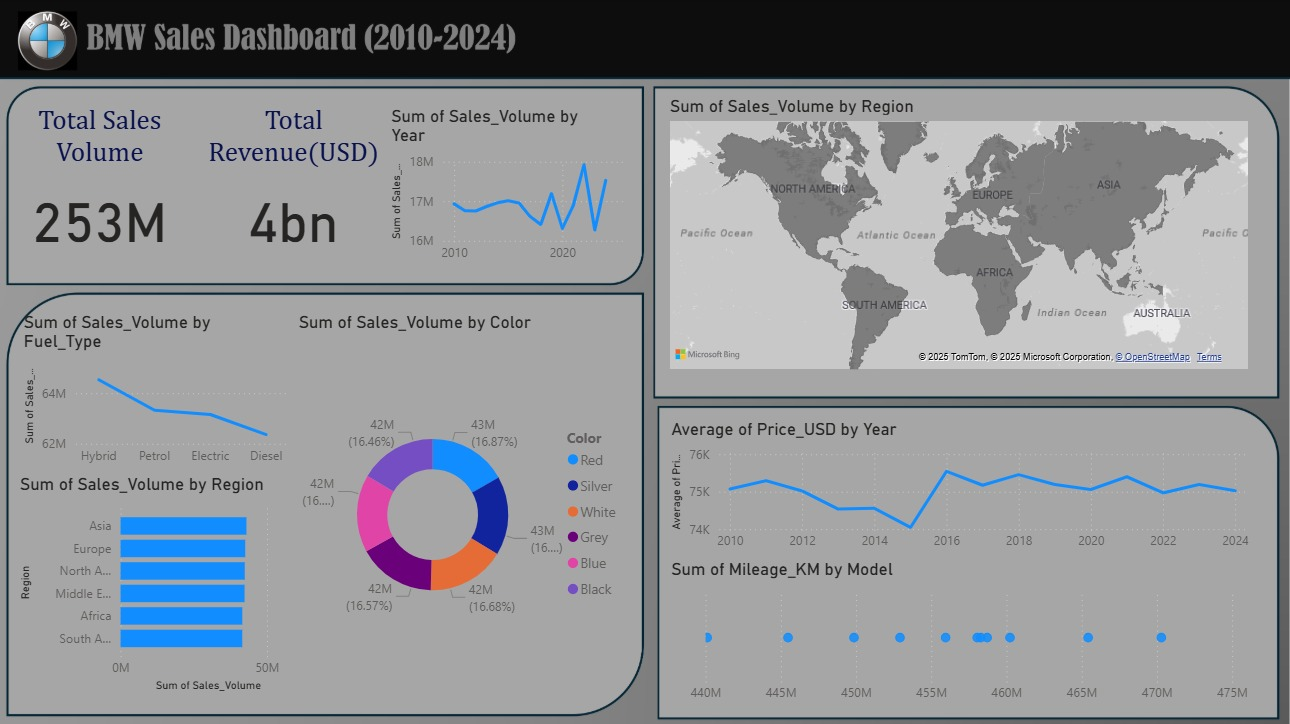

This screenshot's page, from the dashboard's own definition file:
{"tool":"powerbi","page":{"name":"BMW","canvas":[1280,720],"ordinal":0},"visuals":[{"type":"card","title":"Total Sales Volume","fields":{"Values":["Sum(9d267289-12f8-498b-b227-1a05ee3.Sales_Volume)"]},"box":[0,104.3,205.8,163.3],"z":0},{"type":"card","title":"Total Revenue(USD)","fields":{"Values":["Sum(9d267289-12f8-498b-b227-1a05ee3.Price_USD)"]},"box":[190.2,104.3,206.1,163.2],"z":1000},{"type":"lineChart","fields":{"Category":["9d267289-12f8-498b-b227-1a05ee3.Year"],"Y":["Sum(9d267289-12f8-498b-b227-1a05ee3.Sales_Volume)"]},"box":[384.1,104.3,244.2,163.2],"z":2000},{"type":"filledMap","fields":{"Category":["9d267289-12f8-498b-b227-1a05ee3.Region"]},"box":[657.7,94.5,576.7,273.6],"z":3000},{"type":"barChart","fields":{"Category":["9d267289-12f8-498b-b227-1a05ee3.Region"],"Y":["Sum(9d267289-12f8-498b-b227-1a05ee3.Sales_Volume)"]},"box":[20,466.7,293.3,218.3],"z":4000},{"type":"lineChart","fields":{"Category":["9d267289-12f8-498b-b227-1a05ee3.Fuel_Type"],"Y":["Sum(9d267289-12f8-498b-b227-1a05ee3.Sales_Volume)"]},"box":[23.3,306.7,270,160],"z":5000},{"type":"donutChart","fields":{"Category":["9d267289-12f8-498b-b227-1a05ee3.Color"],"Y":["Sum(9d267289-12f8-498b-b227-1a05ee3.Sales_Volume)"]},"box":[293.3,306.7,330,378.3],"z":6000},{"type":"lineChart","fields":{"Category":["9d267289-12f8-498b-b227-1a05ee3.Year"],"Y":["Avg(9d267289-12f8-498b-b227-1a05ee3.Price_USD)"]},"box":[658.3,411.7,576.7,138.3],"z":7000},{"type":"scatterChart","fields":{"Category":["9d267289-12f8-498b-b227-1a05ee3.Model"],"X":["Sum(9d267289-12f8-498b-b227-1a05ee3.Mileage_KM)"]},"box":[658.3,550,576.7,150],"z":8000}]}

Visuals, with their boxes in screenshot pixels (x1, y1, x2, y2), scaled from the page's 1280x720 canvas onto the 1290x724 screenshot:
"Total Sales Volume" card: box(0, 105, 207, 269)
"Total Revenue(USD)" card: box(192, 105, 399, 269)
lineChart - 9d267289-12f8-498b-b227-1a05ee3.Year x Sum(9d267289-12f8-498b-b227-1a05ee3.Sales_Volume): box(387, 105, 633, 269)
filledMap - 9d267289-12f8-498b-b227-1a05ee3.Region: box(663, 95, 1244, 370)
barChart - 9d267289-12f8-498b-b227-1a05ee3.Region x Sum(9d267289-12f8-498b-b227-1a05ee3.Sales_Volume): box(20, 469, 316, 689)
lineChart - 9d267289-12f8-498b-b227-1a05ee3.Fuel_Type x Sum(9d267289-12f8-498b-b227-1a05ee3.Sales_Volume): box(23, 308, 296, 469)
donutChart - 9d267289-12f8-498b-b227-1a05ee3.Color x Sum(9d267289-12f8-498b-b227-1a05ee3.Sales_Volume): box(296, 308, 628, 689)
lineChart - 9d267289-12f8-498b-b227-1a05ee3.Year x Avg(9d267289-12f8-498b-b227-1a05ee3.Price_USD): box(663, 414, 1245, 553)
scatterChart - 9d267289-12f8-498b-b227-1a05ee3.Model x Sum(9d267289-12f8-498b-b227-1a05ee3.Mileage_KM): box(663, 553, 1245, 704)
